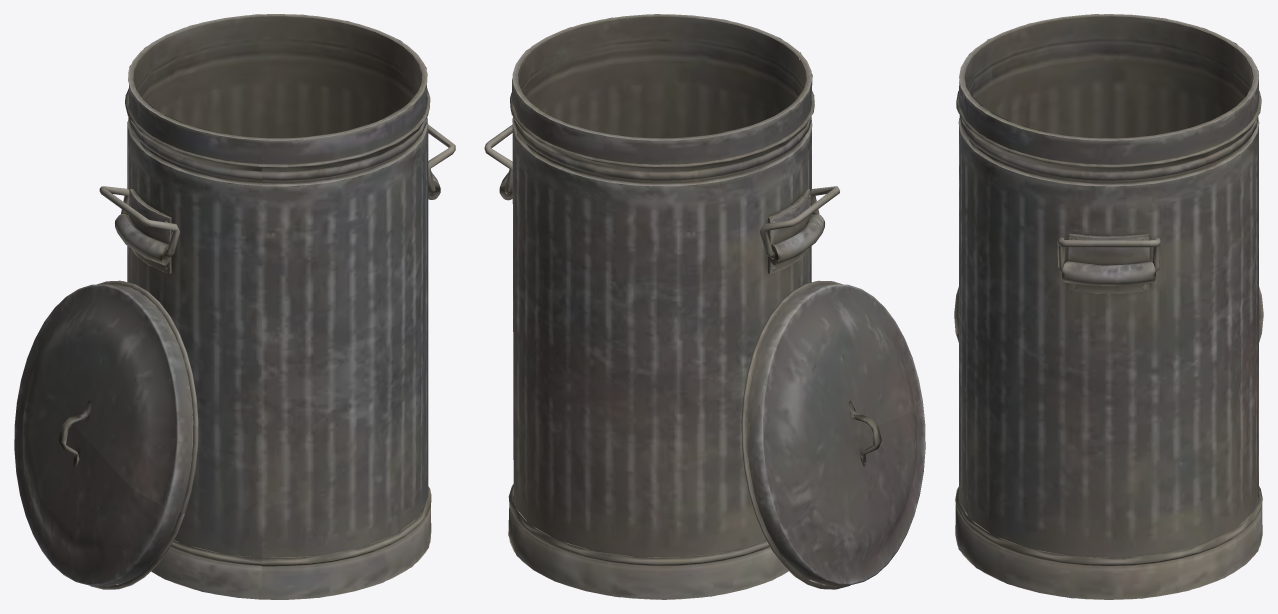
The model's file is ph_trash_can.glb.
3 renders of one model, left to right at view 1: azimuth 30°, elevation 25°; view 2: azimuth 150°, elevation 25°; view 3: azimuth 270°, elevation 25°, orthographic.
Visible parts, largest first — view 1: metal_trash_can, metal_trash_can_lid, metal_trash_can_handle_left, metal_trash_can_handle_right; view 2: metal_trash_can, metal_trash_can_lid, metal_trash_can_handle_left, metal_trash_can_handle_right; view 3: metal_trash_can, metal_trash_can_handle_right.
Boxes of the visible parts, x1,y1,x2,y2 form: metal_trash_can: (115, 14, 440, 599); metal_trash_can_lid: (14, 280, 198, 589); metal_trash_can_handle_left: (99, 186, 179, 258); metal_trash_can_handle_right: (428, 125, 455, 193); metal_trash_can: (499, 14, 824, 599); metal_trash_can_lid: (741, 280, 925, 589); metal_trash_can_handle_left: (760, 186, 839, 258); metal_trash_can_handle_right: (484, 124, 512, 193); metal_trash_can: (955, 14, 1262, 599); metal_trash_can_handle_right: (1057, 237, 1160, 271).
Bounding box in the file's own units: 0.7785 × 0.9062 × 0.5554.
Materials: 1 (1 with a texture image).
